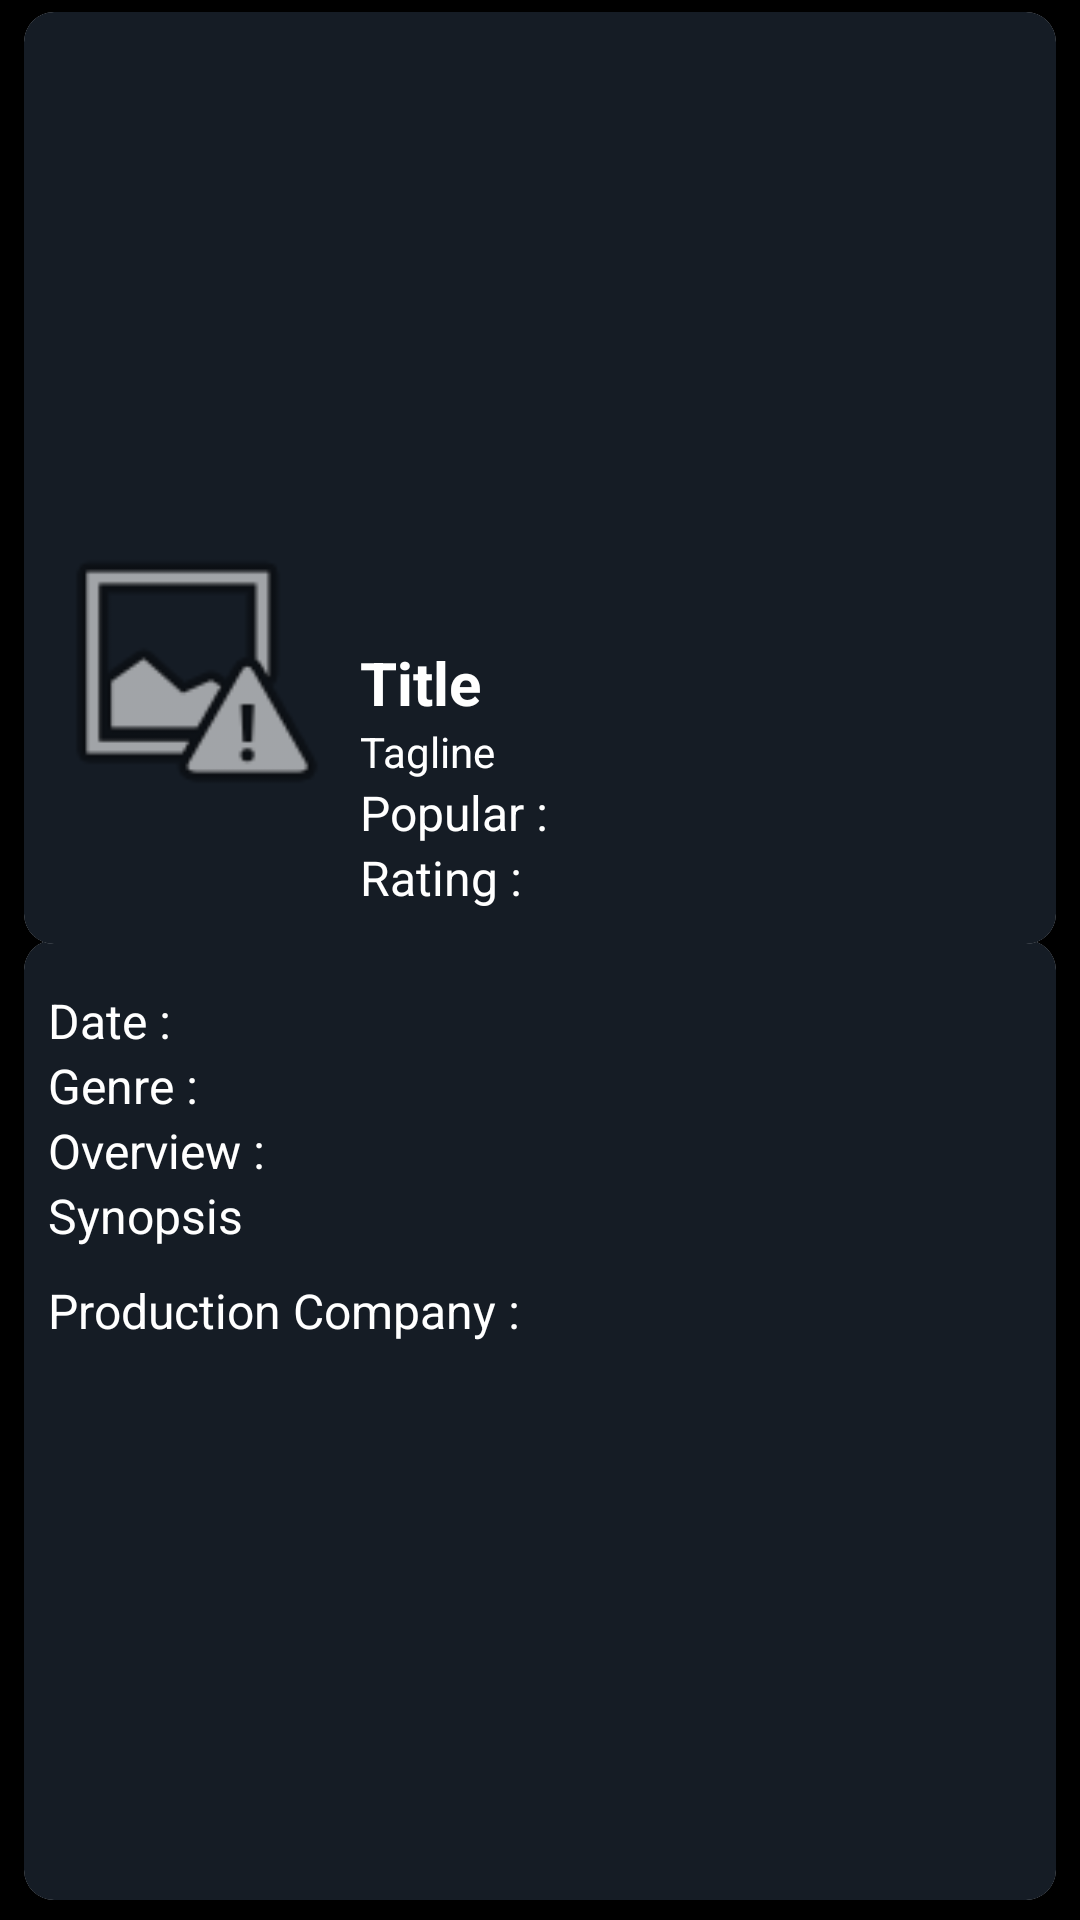

Named icons in this screenshot (1080x1920) and their bounding boxes, (x1, y1, x2, y2):
report: (85, 570, 308, 773)
